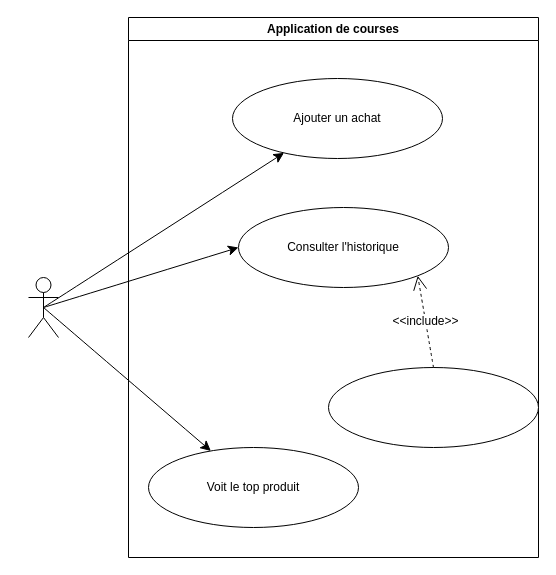
The diagram is 556 pixels wide and 575 high, and some of its shapes have lost their labels. Here are the shapes that lost their labels. From the top down, the box of each, then its label:
(28, 276, 58, 338): Utilisateur
(328, 366, 538, 448): Voir le bilan financier
